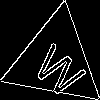W: (30, 35, 93, 100)
